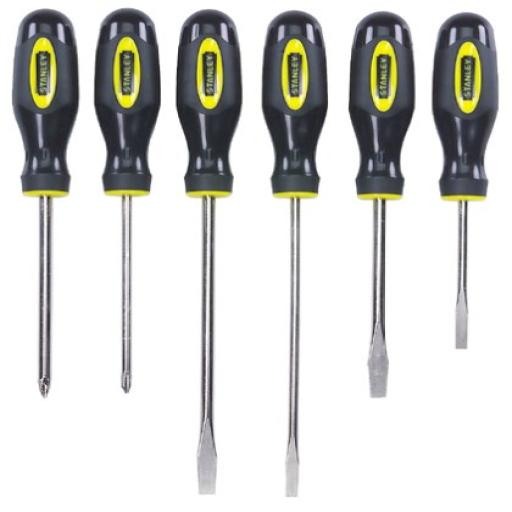screwdriver: (262, 10, 329, 495), (176, 10, 243, 494), (346, 11, 416, 399), (12, 9, 81, 397), (94, 8, 162, 392), (431, 13, 500, 349)
